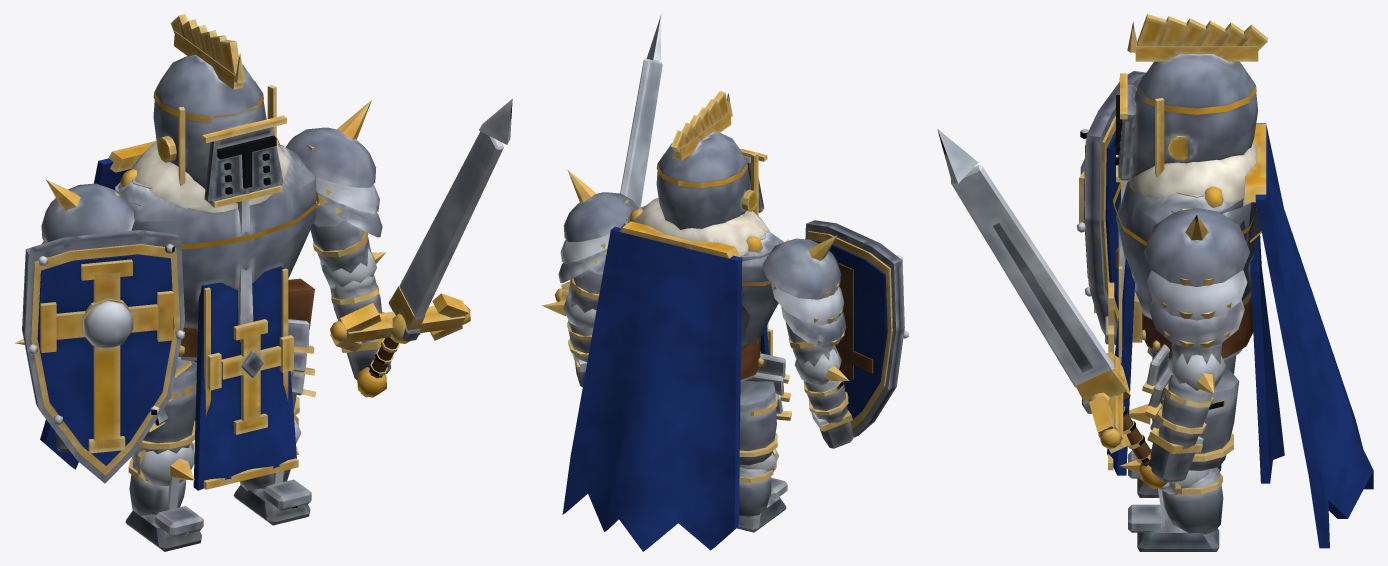
The model's file is knight.glb.
3 renders of one model, left to right at view 1: azimuth 30°, elevation 25°; view 2: azimuth 150°, elevation 25°; view 3: azimuth 270°, elevation 25°, orthographic. The views are drawn at different scales.
Visible parts, largest first — view 1: Torso, ShieldGroup, Head, Sword, ArmR, LegL, ArmL, LegR; view 2: Torso, ShieldGroup, ArmL, Head, ArmR, LegL, Sword; view 3: Torso, Head, ArmR, Sword, LegR, ShieldGroup, LegL.
Part boxes in pixels (bbox=[...]): Torso: bbox=[40, 138, 319, 490]; ShieldGroup: bbox=[22, 230, 184, 483]; Head: bbox=[153, 14, 286, 207]; Sword: bbox=[330, 99, 512, 397]; ArmR: bbox=[286, 100, 390, 379]; LegL: bbox=[125, 361, 203, 551]; ArmL: bbox=[15, 179, 134, 452]; LegR: bbox=[233, 372, 311, 525]; Torso: bbox=[562, 197, 791, 551]; ShieldGroup: bbox=[805, 220, 908, 437]; ArmL: bbox=[763, 235, 853, 448]; Head: bbox=[656, 91, 767, 229]; ArmR: bbox=[542, 169, 638, 387]; LegL: bbox=[736, 381, 787, 532]; Sword: bbox=[555, 14, 662, 301]; Torso: bbox=[1105, 123, 1373, 548]; Head: bbox=[1114, 14, 1267, 242]; ArmR: bbox=[1144, 208, 1249, 482]; Sword: bbox=[937, 129, 1169, 490]; LegR: bbox=[1119, 368, 1239, 551]; ShieldGroup: bbox=[1077, 71, 1146, 344]; LegL: bbox=[1128, 351, 1236, 497].
Size of the model in its own units: 1.92 by 2.07 by 1.64.
2 materials, 2 textured.
